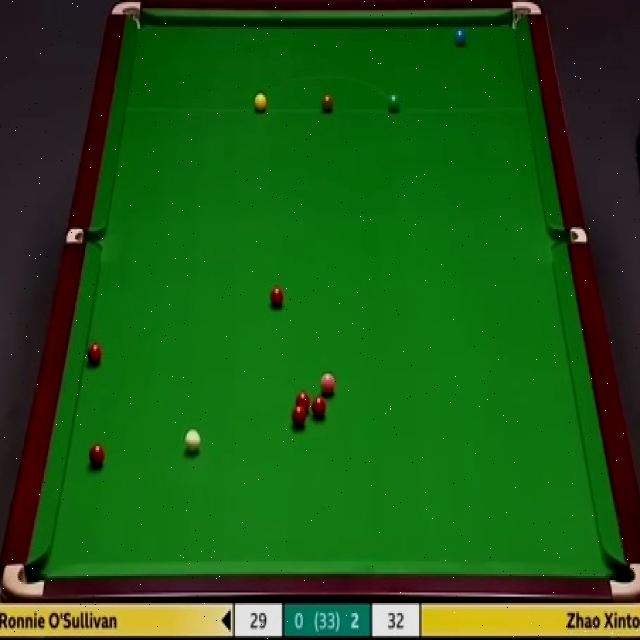blue-ball: (452, 23, 468, 48)
brown-ball: (320, 94, 334, 115)
green-ball: (387, 93, 401, 115)
pink-ball: (317, 372, 336, 398)
red-ball: (88, 442, 106, 471), (310, 395, 328, 419), (269, 284, 285, 310), (291, 406, 307, 430), (86, 342, 101, 367), (294, 391, 311, 413)
white-ball: (182, 427, 200, 457)
yellow-ball: (254, 92, 268, 114)
